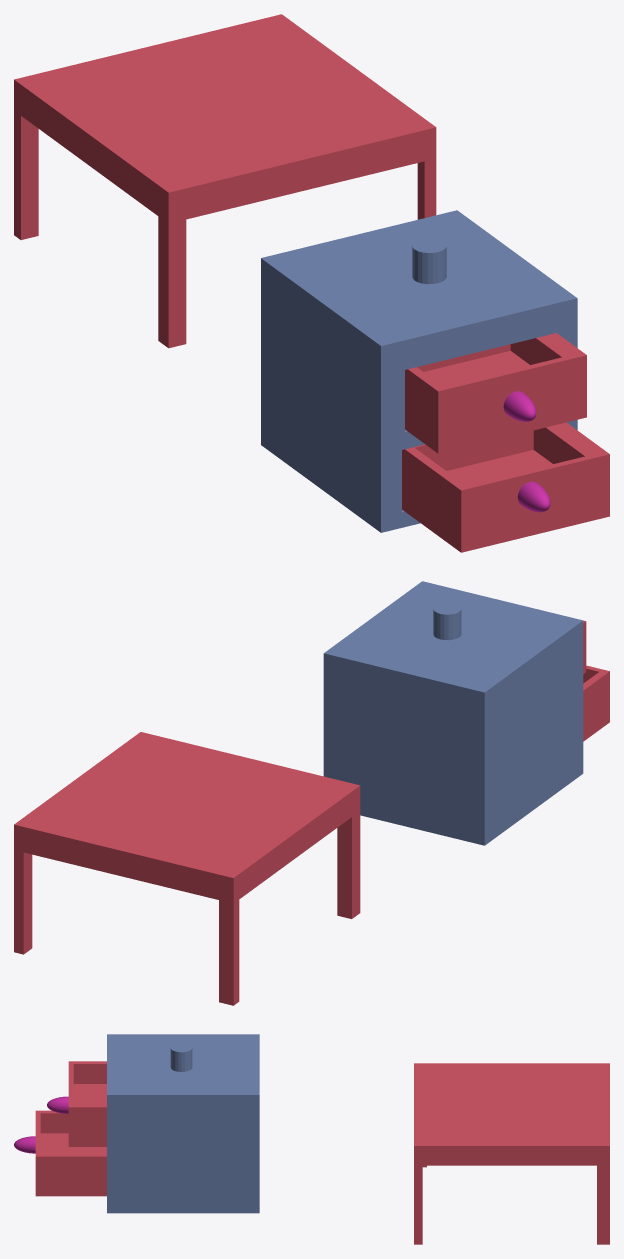
Rendered from drors.glb.
The picture shows the model from 3 angles, top to bottom: view 1: azimuth 30°, elevation 25°; view 2: azimuth 150°, elevation 25°; view 3: azimuth 270°, elevation 25°; orthographic projection. The views are drawn at different scales.
Visible parts, largest first — view 1: Mesh_Mesh_head_geo.001_lambert2SG.001; view 2: Mesh_Mesh_head_geo.001_lambert2SG.001; view 3: Mesh_Mesh_head_geo.001_lambert2SG.001.
Boxes of the visible parts, x1,y1,x2,y2 form: Mesh_Mesh_head_geo.001_lambert2SG.001: (14,14,609,552); Mesh_Mesh_head_geo.001_lambert2SG.001: (14,581,609,1005); Mesh_Mesh_head_geo.001_lambert2SG.001: (14,1034,609,1244).
Size of the model in its own units: 100 by 70 by 274.
